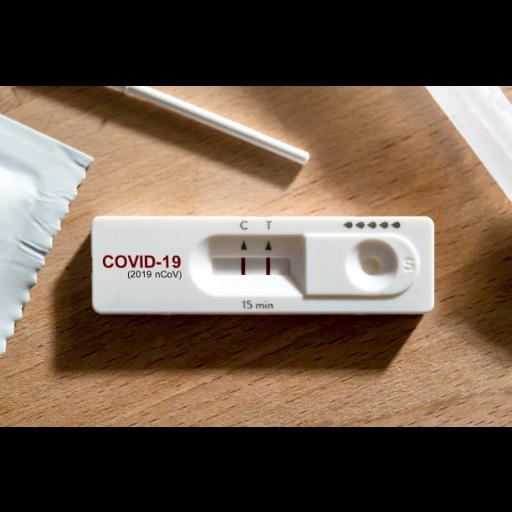Pos: (93, 216, 433, 310)
